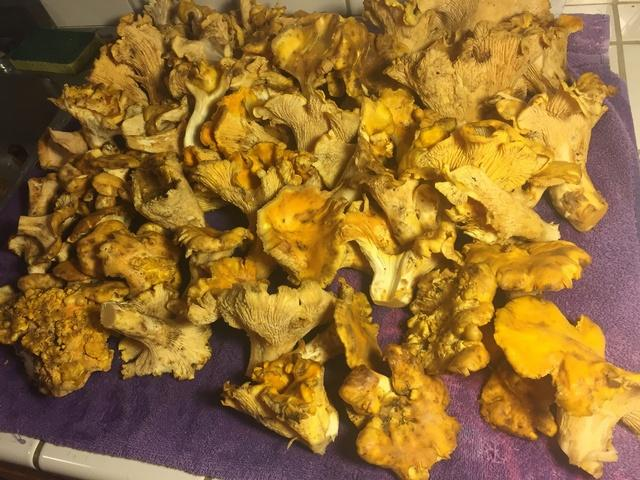Edible Mushroom: (2, 0, 636, 478)
